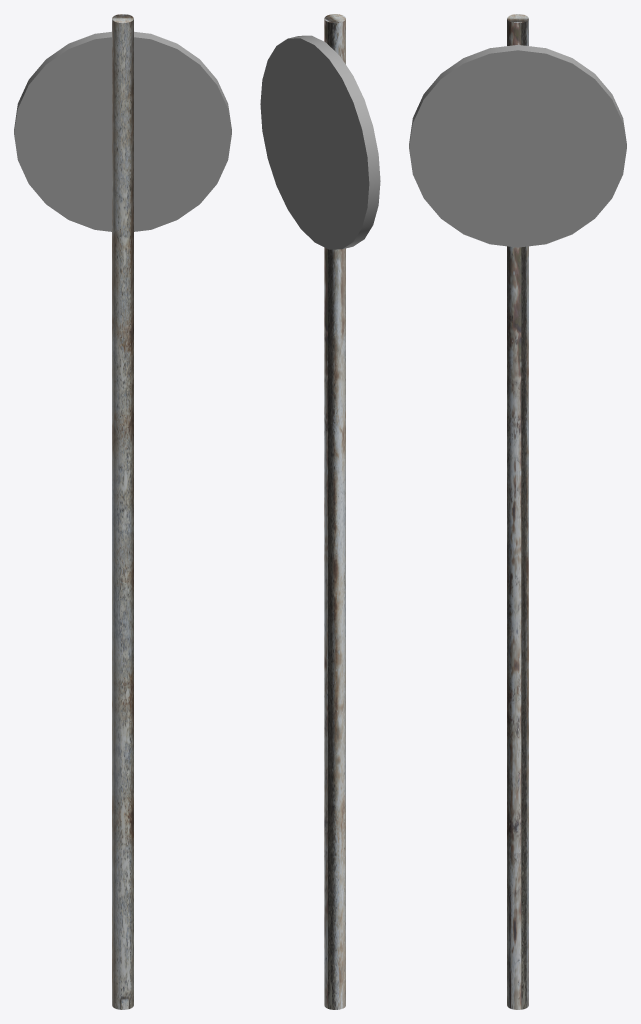
Rendered from Round Top Pole.fbx.
3 views of the same model, side by side, from view 1: azimuth 90°, elevation 25°; view 2: azimuth 210°, elevation 25°; view 3: azimuth 270°, elevation 25° (orthographic).
Parts seen in each view (by area): view 1: head, pole; view 2: head, pole; view 3: head, pole.
Boxes of the visible parts, left/top/right/bottom form: head: left=14, top=31, right=231, bottom=231; pole: left=112, top=14, right=133, bottom=1009; head: left=260, top=35, right=380, bottom=249; pole: left=324, top=14, right=345, bottom=1009; head: left=409, top=45, right=626, bottom=247; pole: left=507, top=14, right=528, bottom=1009.
Size of the model in its own units: 0.3157 by 10 by 2.
Materials: 2 (1 with a texture image).
